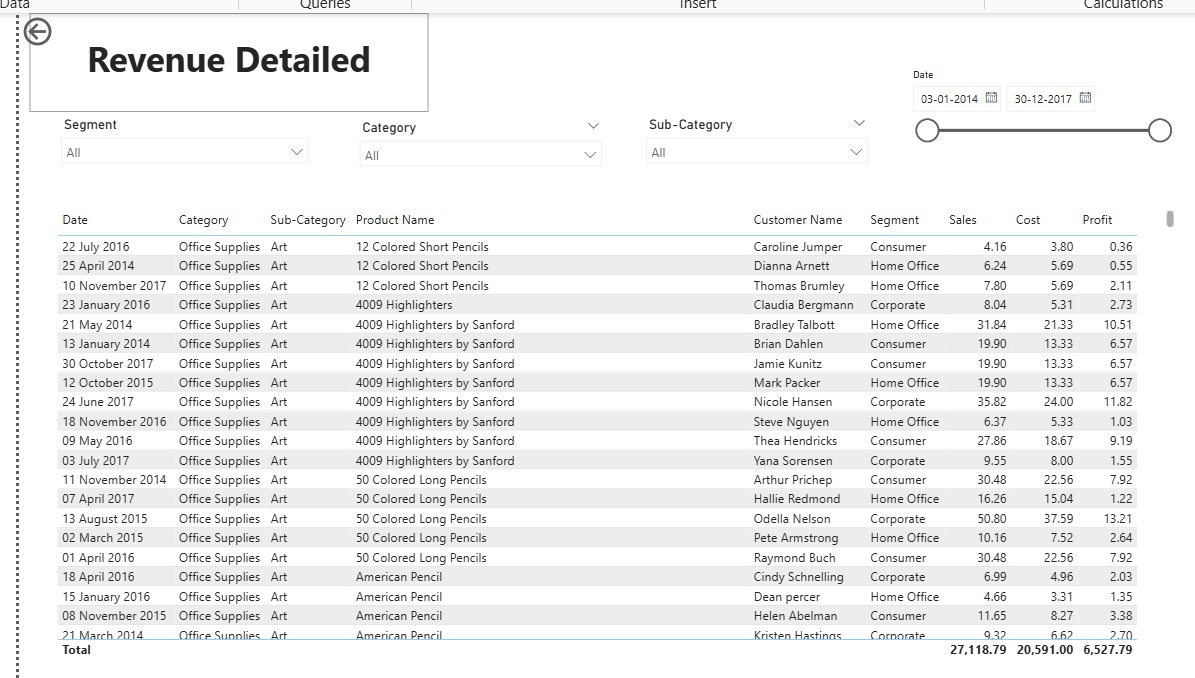

The dashboard page shown, as its layout file describes it:
{"tool":"powerbi","page":{"name":"Revenue Detailed","canvas":[1280,720],"ordinal":3},"visuals":[{"type":"textbox","box":[11,0,430.3,107.6],"z":0},{"type":"slicer","fields":{"Values":["Orders.Segment"]},"box":[35.9,107.6,286.9,77.2],"z":1000},{"type":"slicer","fields":{"Values":["Orders.Category"]},"box":[358.6,110.3,281.4,74.5],"z":2000},{"type":"slicer","fields":{"Values":["Orders.Sub-Category"]},"box":[667.6,107.6,259.3,77.2],"z":3000},{"type":"slicer","fields":{"Values":["Date.Date"]},"box":[951.7,55.2,300.7,129.7],"z":4000},{"type":"tableEx","fields":{"Values":["Date.Date","Orders.Category","Orders.Sub-Category","Orders.Product Name","Orders.Customer Name","Orders.Segment","Measure_Table.Sales","Measure_Table.Cost","Measure_Table.Profit"]},"box":[35.9,206.9,1216.6,493.8],"z":5000},{"type":"actionButton","box":[0,0,100,40],"z":5001}]}

Visuals, with their boxes on the page's 1280x720 design canvas (x1, y1, x2, y2). These are canvas units, not pixel positions in the 1195x678 screenshot, which may show the page scaled, cropped or inside an application window:
textbox: (11, 0, 441, 108)
slicer - Orders.Segment: (36, 108, 323, 185)
slicer - Orders.Category: (359, 110, 640, 185)
slicer - Orders.Sub-Category: (668, 108, 927, 185)
slicer - Date.Date: (952, 55, 1252, 185)
tableEx - Date.Date x Orders.Category: (36, 207, 1252, 701)
actionButton: (0, 0, 100, 40)
